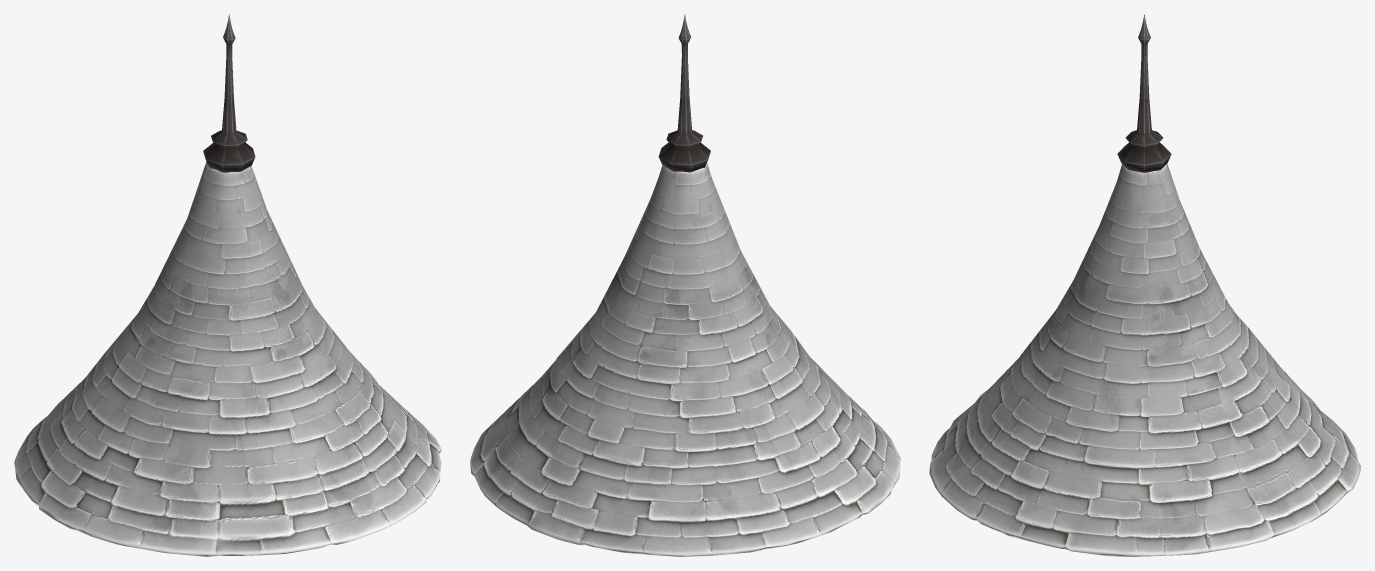
Rendered from sm_windmillroof_(1).gltf.
3 views of the same model, side by side, from view 1: azimuth 30°, elevation 25°; view 2: azimuth 150°, elevation 25°; view 3: azimuth 270°, elevation 25° (orthographic).
Visible parts, largest first — view 1: SM_RoofTIles_LOD2; view 2: SM_RoofTIles_LOD2; view 3: SM_RoofTIles_LOD2.
Boxes of the visible parts, bbox=[...] form: SM_RoofTIles_LOD2: bbox=[14, 14, 441, 556]; SM_RoofTIles_LOD2: bbox=[470, 14, 900, 556]; SM_RoofTIles_LOD2: bbox=[929, 14, 1360, 556].
Bounding box in the file's own units: 22.36 × 27.09 × 22.35.
Materials: 3 (3 with a texture image).
